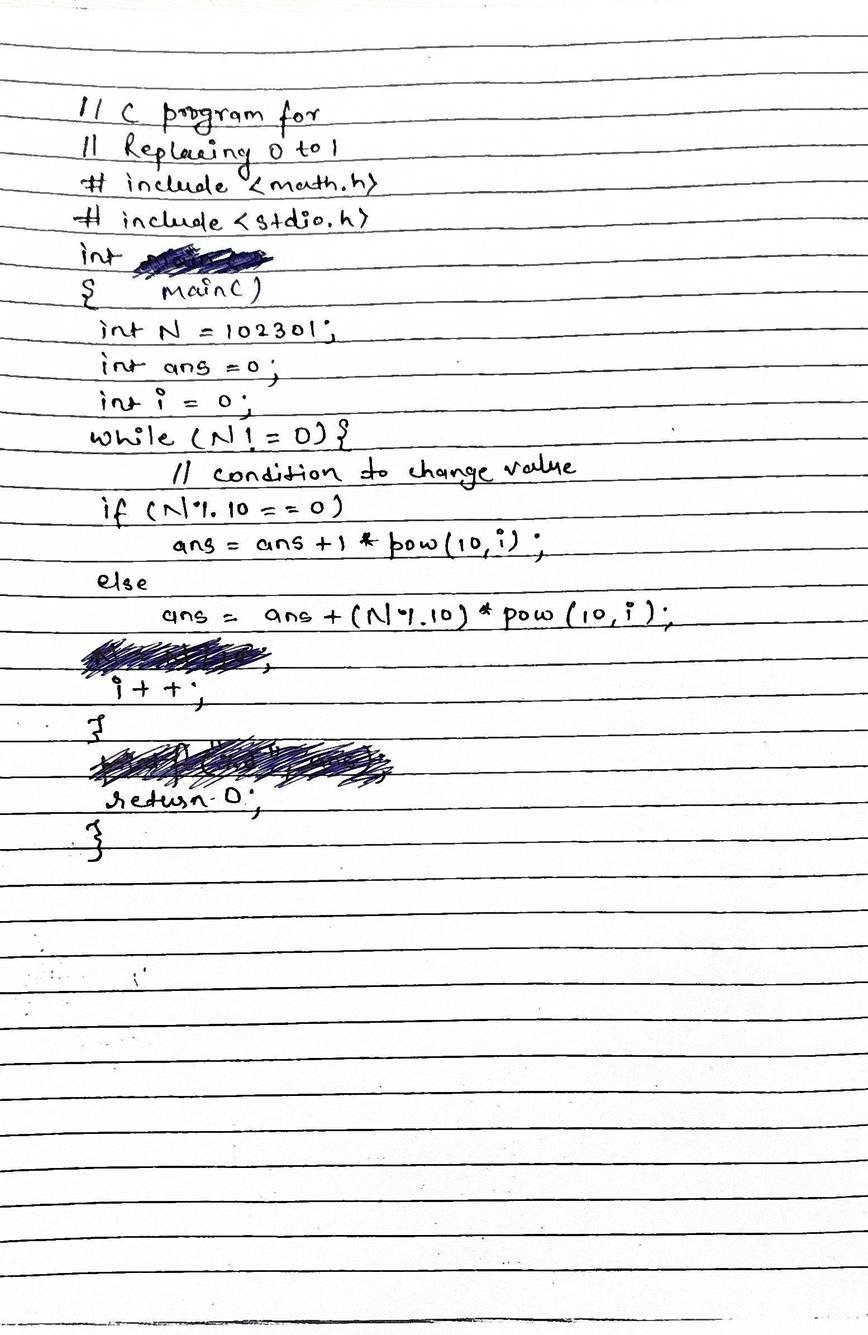cuttings: (92, 736, 394, 790), (80, 636, 271, 680), (136, 244, 272, 281)
